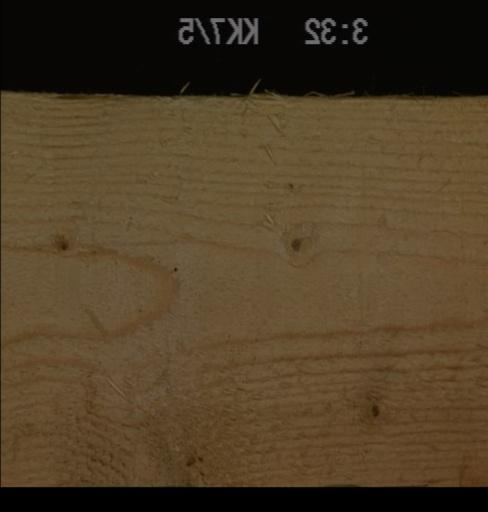small_knot: (360, 392, 394, 422), (46, 225, 72, 258), (283, 232, 302, 255)
